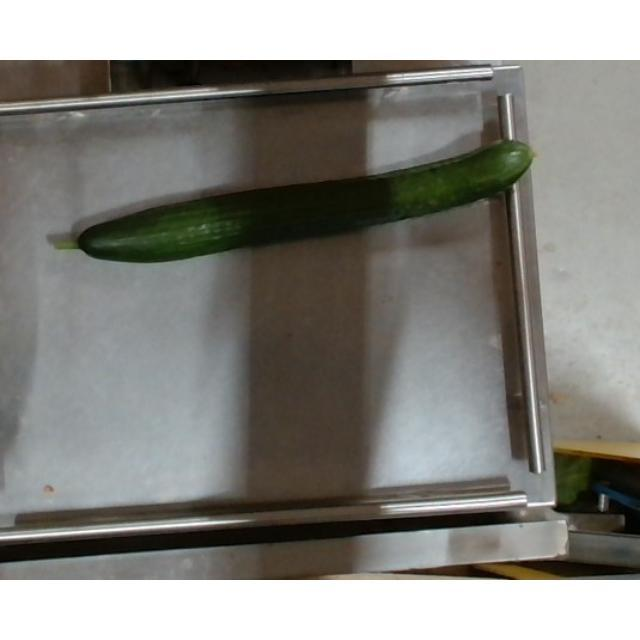cucumber: (56, 137, 536, 263)
